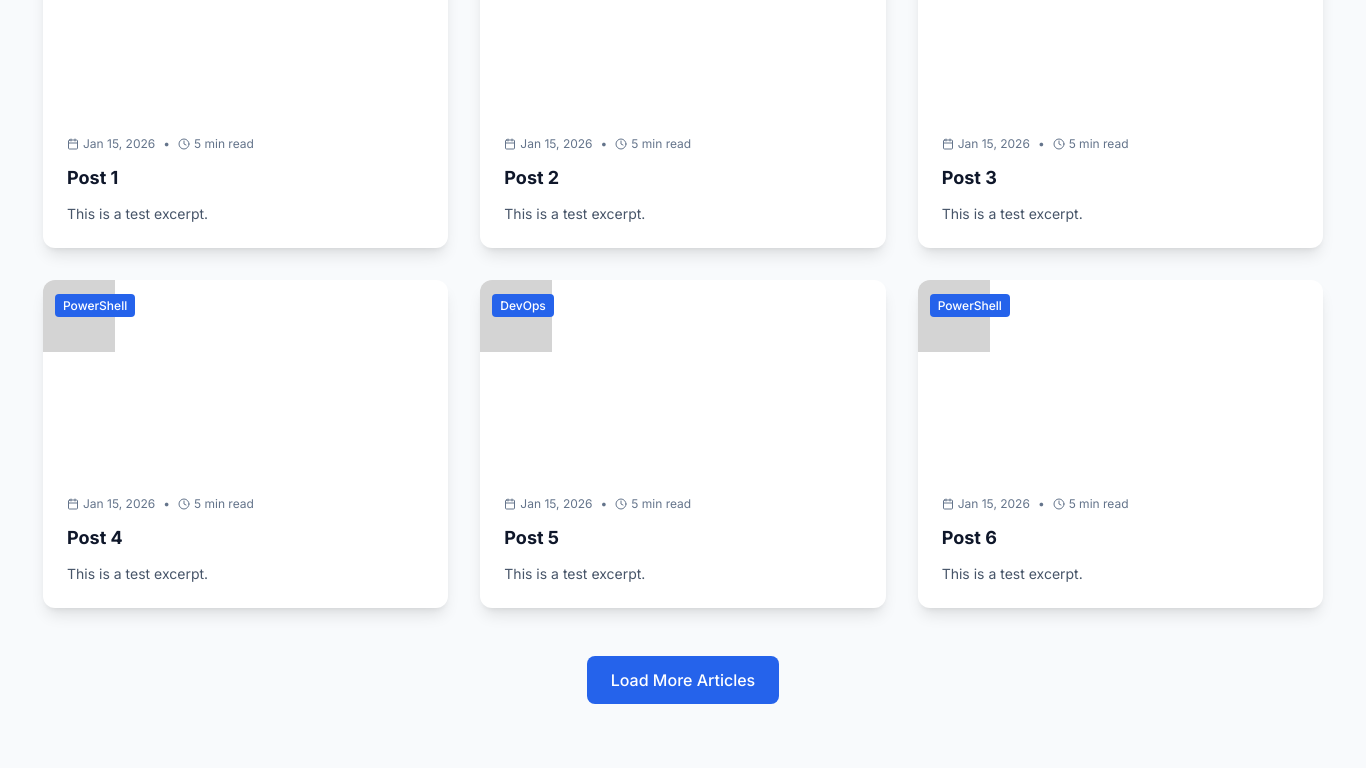
Test: BlogPostGrid › reveals more posts when Load More is clicked
(page scrolled)
Click the button "Load More Articles": [683, 680] box [587, 656, 779, 704]
(page scrolled)
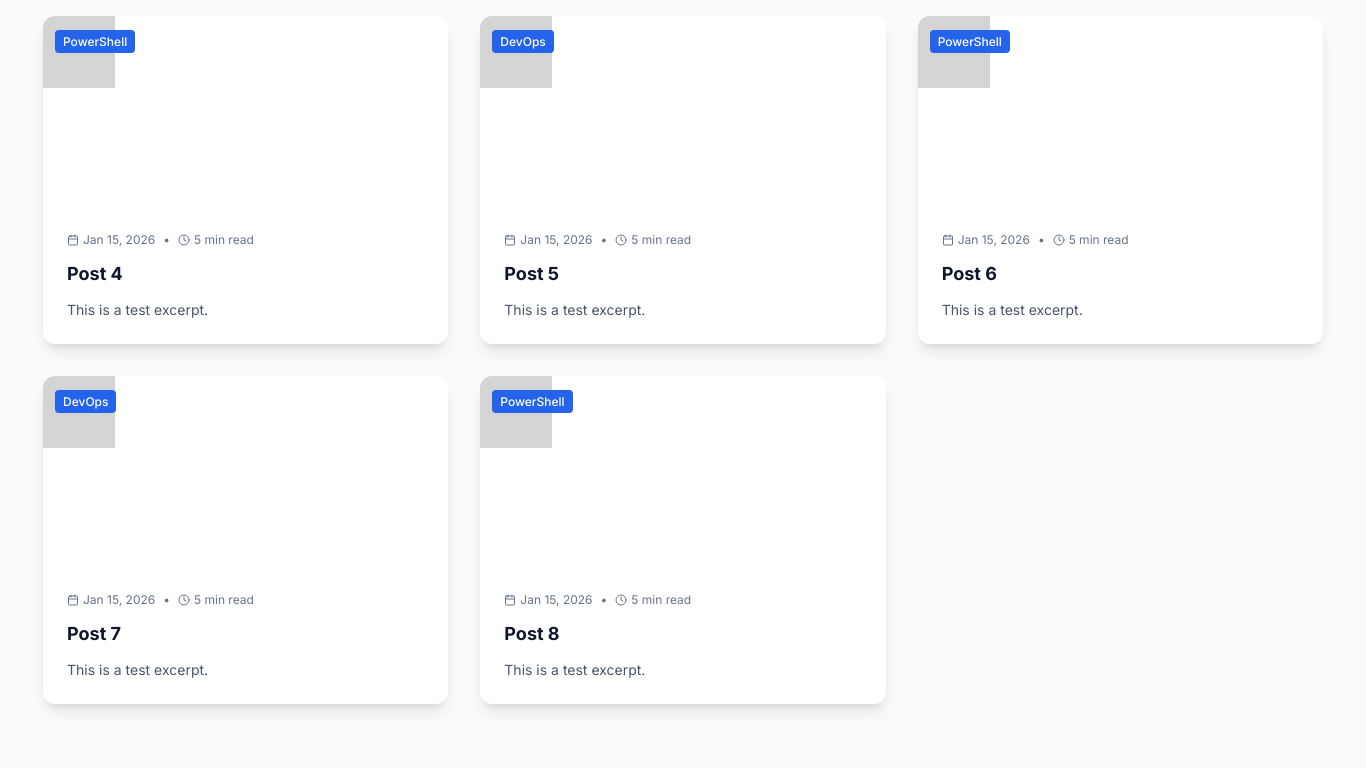
Check: the heading "Post 7" is shown, box [67, 623, 121, 644]
Check: the heading "Post 8" is shown, box [504, 623, 560, 644]
